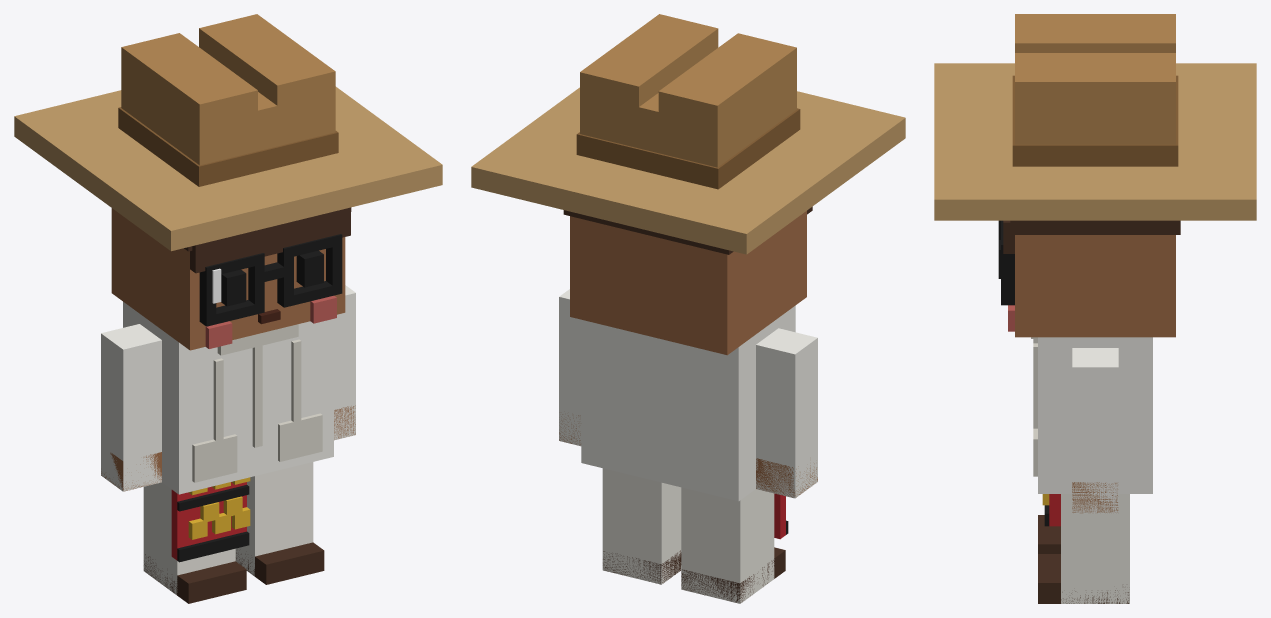
Rendered from IktanVoxel.fbx.
3 renders of one model, left to right at view 1: azimuth 30°, elevation 25°; view 2: azimuth 150°, elevation 25°; view 3: azimuth 270°, elevation 25°, orthographic. The views are drawn at different scales.
Parts seen in each view (by area): view 1: Hat, Torso, HeadMesh, Arm_R_Mesh, Leg_L_Mesh, Leg_R_Mesh, Pano, Arm_L_Mesh; view 2: Hat, Torso, HeadMesh, Arm_R_Mesh, Leg_R_Mesh, Leg_L_Mesh, Arm_L_Mesh; view 3: Hat, HeadMesh, Torso, Leg_L_Mesh, Arm_L_Mesh, Leg_R_Mesh, Pano.
Boxes of the visible parts, bbox=[...] form: Hat: bbox=[14, 14, 442, 251]; Torso: bbox=[123, 302, 333, 494]; HeadMesh: bbox=[111, 207, 351, 350]; Arm_R_Mesh: bbox=[101, 324, 161, 491]; Leg_L_Mesh: bbox=[235, 462, 324, 584]; Leg_R_Mesh: bbox=[143, 482, 246, 603]; Pano: bbox=[171, 477, 250, 562]; Arm_L_Mesh: bbox=[334, 285, 355, 440]; Hat: bbox=[471, 14, 905, 254]; Torso: bbox=[581, 305, 795, 501]; HeadMesh: bbox=[563, 206, 812, 355]; Arm_R_Mesh: bbox=[756, 328, 817, 498]; Leg_R_Mesh: bbox=[681, 487, 785, 603]; Leg_L_Mesh: bbox=[602, 468, 681, 584]; Arm_L_Mesh: bbox=[559, 289, 581, 446]; Hat: bbox=[934, 14, 1256, 220]; HeadMesh: bbox=[998, 220, 1180, 337]; Torso: bbox=[1031, 337, 1152, 493]; Leg_L_Mesh: bbox=[1038, 494, 1129, 603]; Arm_L_Mesh: bbox=[1072, 348, 1118, 513]; Leg_R_Mesh: bbox=[1038, 515, 1060, 553]; Pano: bbox=[1042, 494, 1060, 526].
Bounding box in the file's own units: 70 × 125 × 70.
